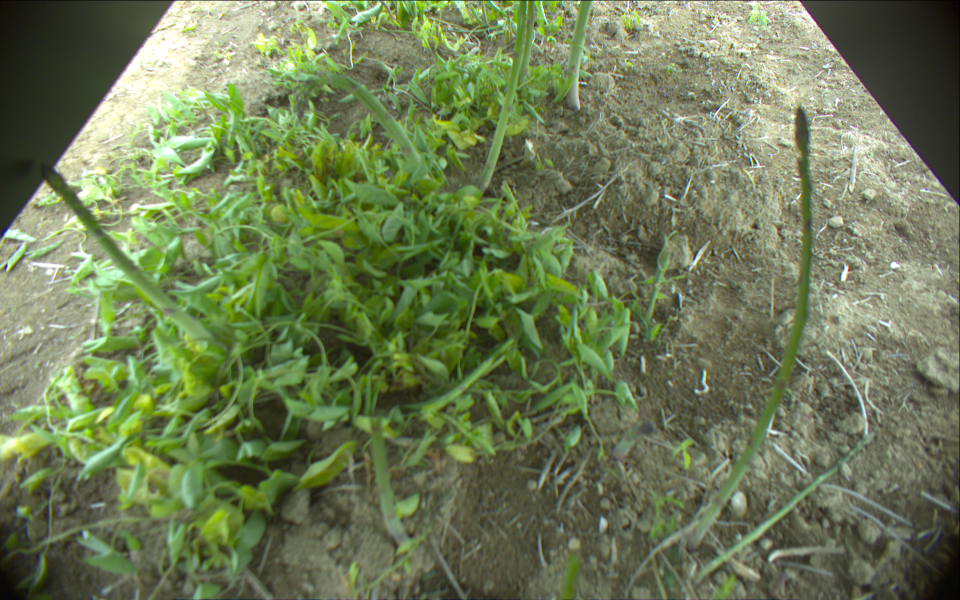aspa: (686, 104, 813, 552), (34, 158, 217, 345), (697, 434, 872, 582), (289, 71, 433, 178), (472, 1, 526, 193), (368, 419, 408, 542), (563, 1, 600, 108), (518, 1, 537, 89)
